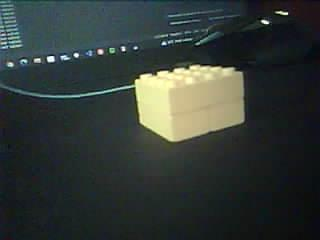lego: (135, 62, 245, 142)
